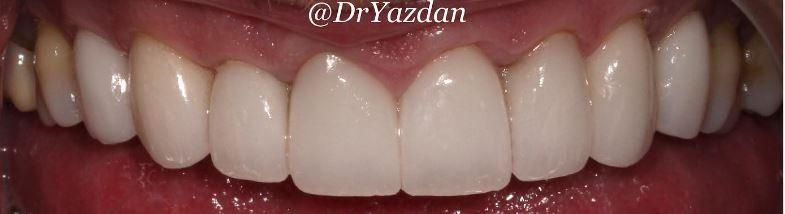1st Molar: (744, 35, 781, 117), (3, 42, 35, 115)
1st Premolar: (657, 6, 711, 141), (73, 29, 135, 146)
2nd Premolar: (710, 22, 747, 137), (35, 24, 73, 126)
Canine: (128, 32, 208, 171), (596, 17, 658, 167)
Central Incisor: (399, 43, 512, 197), (286, 50, 397, 197)
Lateral Incisor: (512, 26, 594, 182), (210, 54, 285, 182)
